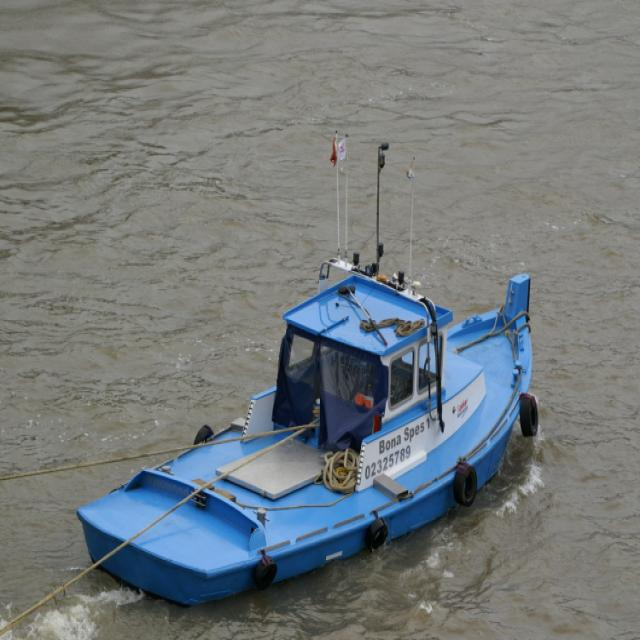tugboat: (73, 241, 544, 619)
